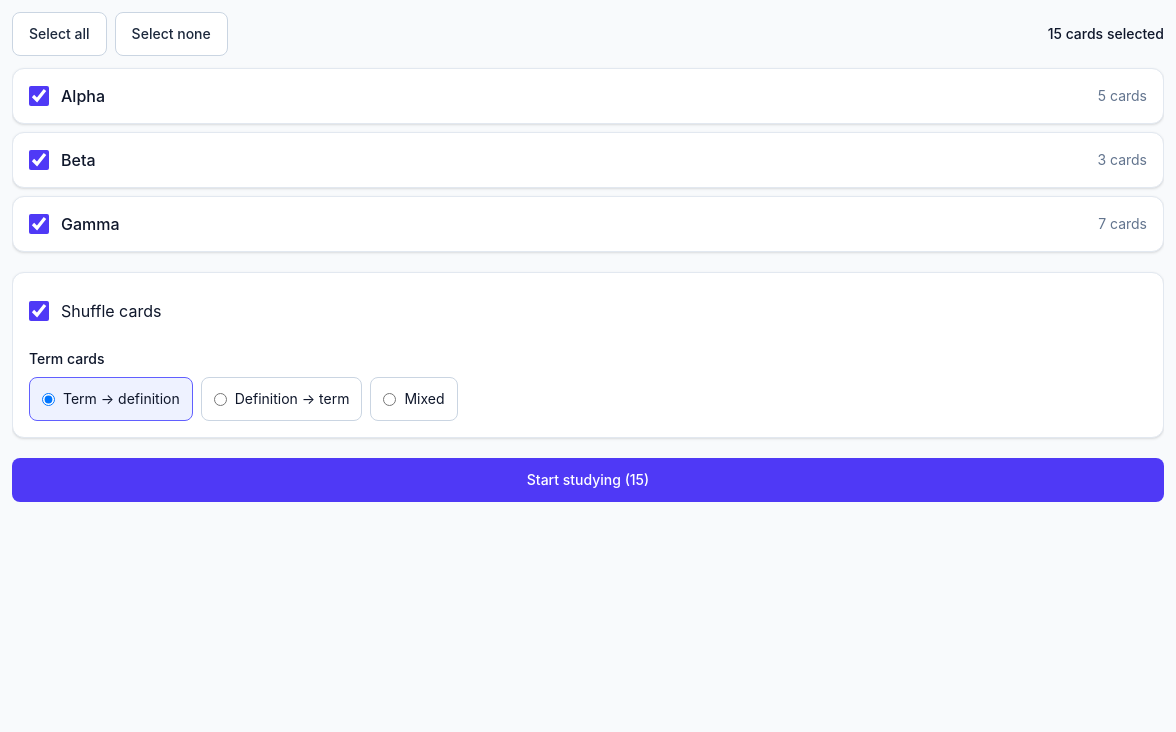
group picker › starts with everything selected and a live total
Click the checkbox labelled "Beta 3 cards". click: point(39, 160)
box: [29,150,49,170]
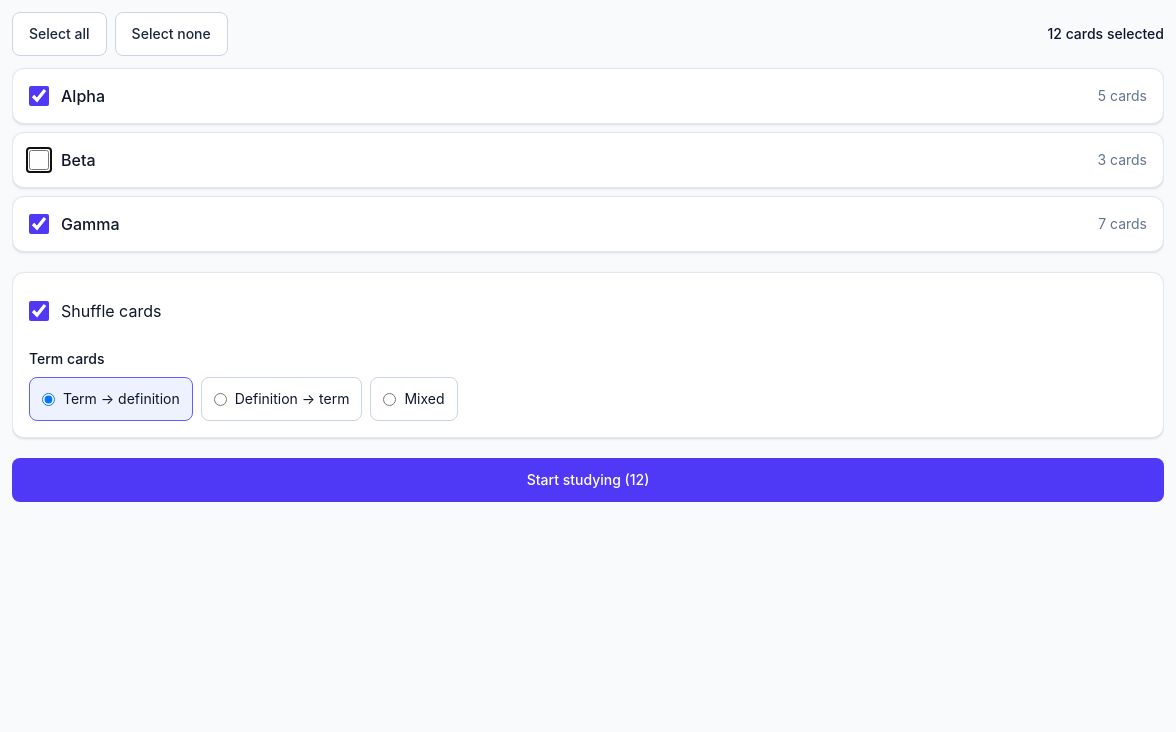
Expected: the text with test id "selected-total" reads "12 cards selected", [1048,24,1164,44]
Click the checkbox labelled "Beta 3 cards". click: point(39, 160)
box: [29,150,49,170]
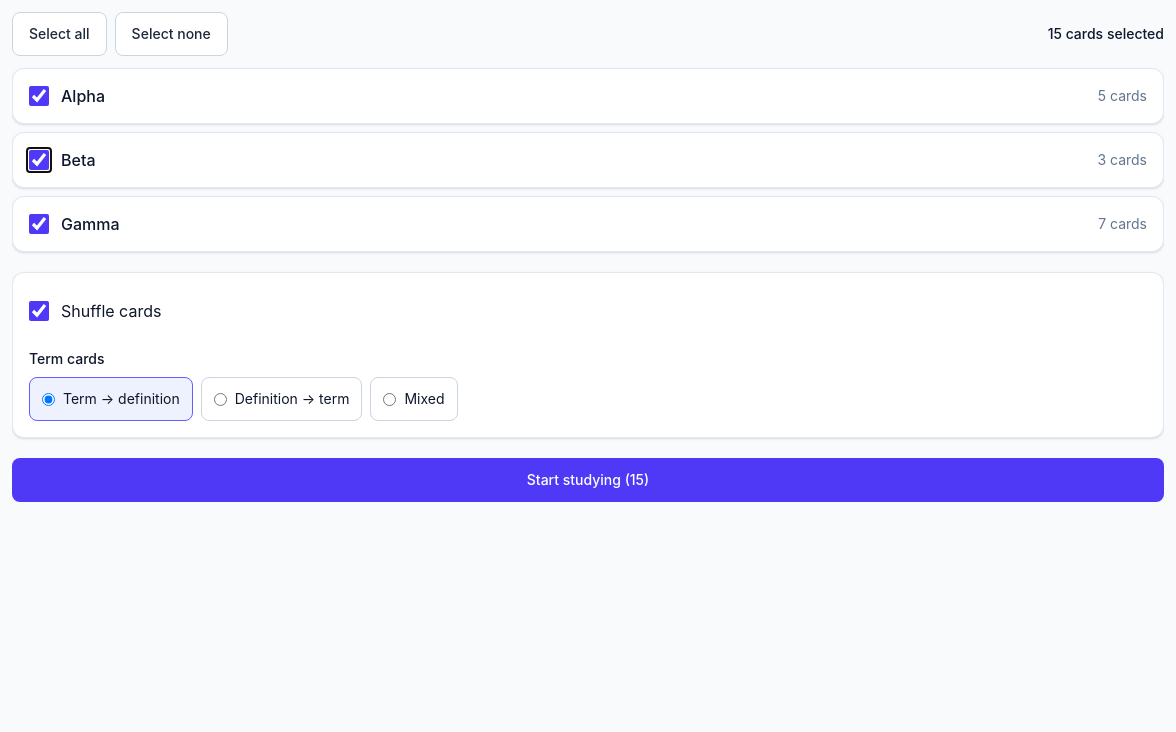
Expected: the text with test id "selected-total" reads "15 cards selected", [1048,24,1164,44]
